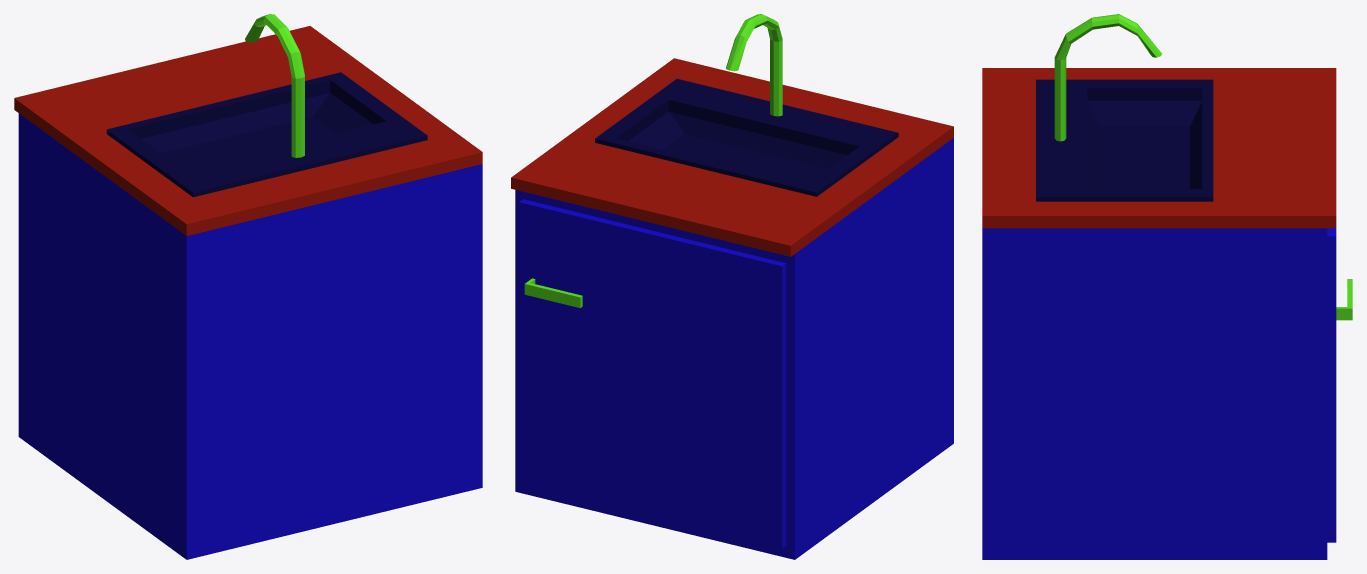
File: P_PlanDeTravail_03_Colored_Unbreakable.fbx
3 views of the same model, side by side, from view 1: azimuth 30°, elevation 25°; view 2: azimuth 150°, elevation 25°; view 3: azimuth 270°, elevation 25° (orthographic). The views are drawn at different scales.
Parts seen in each view (by area): view 1: P_PlanDeTravail_03_Colored_Unbreakable; view 2: P_PlanDeTravail_03_Colored_Unbreakable; view 3: P_PlanDeTravail_03_Colored_Unbreakable.
Boxes of the visible parts, <box> form: P_PlanDeTravail_03_Colored_Unbreakable: <box>14,14,482,559</box>; P_PlanDeTravail_03_Colored_Unbreakable: <box>511,14,953,559</box>; P_PlanDeTravail_03_Colored_Unbreakable: <box>982,14,1352,559</box>.
Size of the model in its own units: 84.06 by 125 by 88.82.
